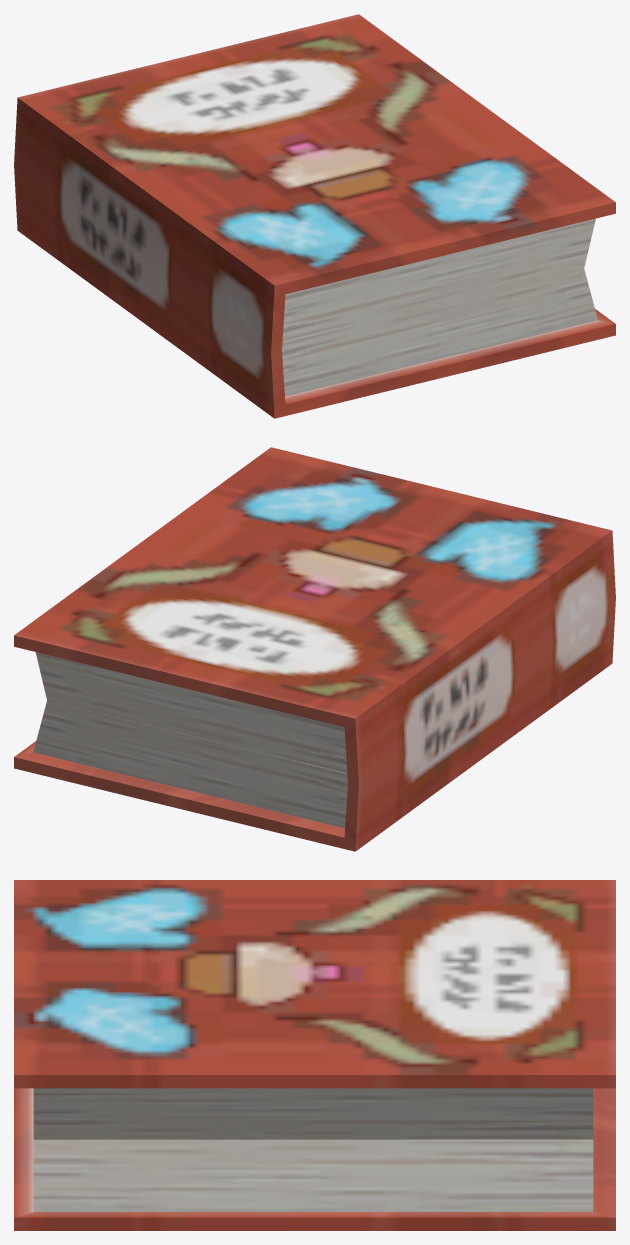
The model's file is libroReposteria3.fbx.
3 renders of one model, top to bottom at view 1: azimuth 30°, elevation 25°; view 2: azimuth 150°, elevation 25°; view 3: azimuth 270°, elevation 25°, orthographic. The views are drawn at different scales.
Visible parts, largest first — view 1: s4studio_mesh_0; view 2: s4studio_mesh_0; view 3: s4studio_mesh_0.
Part boxes in pixels (left/top/right/bottom): s4studio_mesh_0: left=14, top=14, right=615, bottom=418; s4studio_mesh_0: left=14, top=447, right=615, bottom=851; s4studio_mesh_0: left=14, top=880, right=615, bottom=1230.
Bounding box in the file's own units: 16.25 × 5.99 × 20.98.
1 material, 1 textured.
